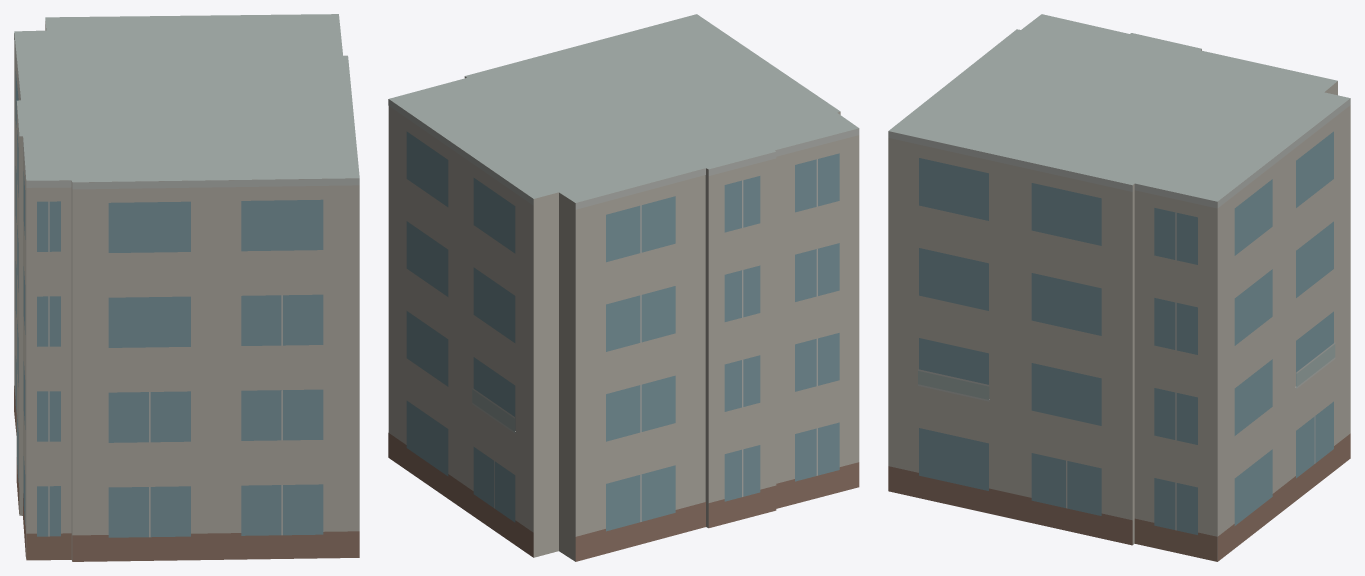
The model's file is survey-upis-32657752.glb.
The picture shows the model from 3 angles, left to right: view 1: azimuth 30°, elevation 25°; view 2: azimuth 150°, elevation 25°; view 3: azimuth 270°, elevation 25°; orthographic projection. The views are drawn at different scales.
Visible parts, largest first — view 1: survey-upis-32657752.tmp; view 2: survey-upis-32657752.tmp; view 3: survey-upis-32657752.tmp.
Part boxes in pixels (x1,y1,x2,y2): survey-upis-32657752.tmp: (14,14,359,561); survey-upis-32657752.tmp: (388,14,859,561); survey-upis-32657752.tmp: (888,14,1350,561).
Size of the model in its own units: 14.52 by 12.98 by 15.11.
